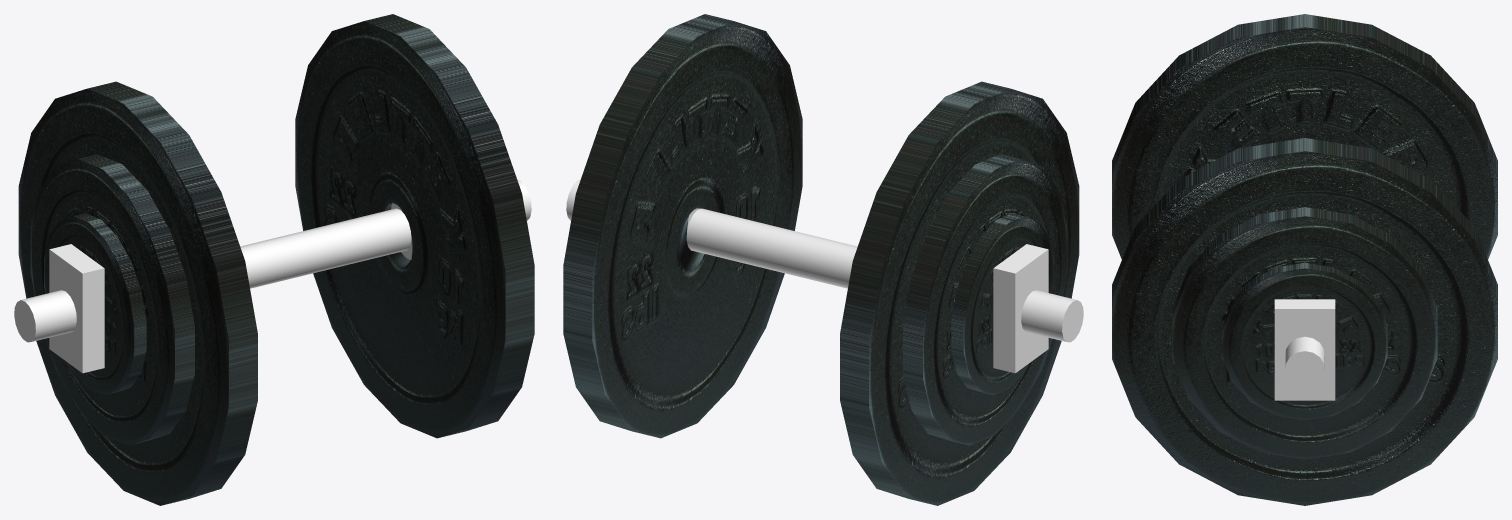
File: gewicht.fbx
The picture shows the model from 3 angles, left to right: view 1: azimuth 30°, elevation 25°; view 2: azimuth 150°, elevation 25°; view 3: azimuth 270°, elevation 25°; orthographic projection. The views are drawn at different scales.
Parts seen in each view (by area): view 1: pCylinder8; view 2: pCylinder8; view 3: pCylinder8.
Boxes of the visible parts, <box> form: pCylinder8: <box>14,14,534,505</box>; pCylinder8: <box>563,14,1083,505</box>; pCylinder8: <box>1112,14,1497,505</box>.
Bounding box in the file's own units: 15.98 × 11.93 × 11.75.
